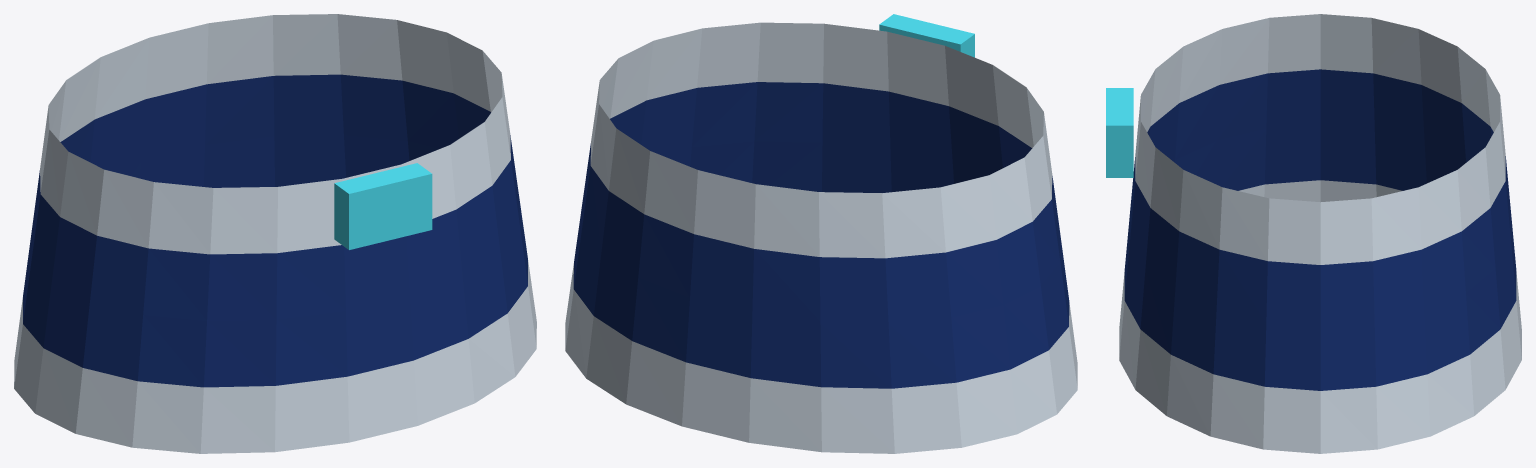
File: Skin_ValkyrieShorts.obj
3 views of the same model, side by side, from view 1: azimuth 30°, elevation 25°; view 2: azimuth 150°, elevation 25°; view 3: azimuth 270°, elevation 25° (orthographic). The views are drawn at different scales.
Parts seen in each view (by area): view 1: Skin_ValkyrieShorts_BaseArmor, Skin_ValkyrieShorts_TrimMetal, Skin_ValkyrieShorts_EmissiveCore; view 2: Skin_ValkyrieShorts_BaseArmor, Skin_ValkyrieShorts_TrimMetal, Skin_ValkyrieShorts_EmissiveCore; view 3: Skin_ValkyrieShorts_BaseArmor, Skin_ValkyrieShorts_TrimMetal, Skin_ValkyrieShorts_EmissiveCore.
Boxes of the visible parts, bbox=[...] form: Skin_ValkyrieShorts_BaseArmor: bbox=[23, 74, 527, 387]; Skin_ValkyrieShorts_TrimMetal: bbox=[14, 14, 536, 453]; Skin_ValkyrieShorts_EmissiveCore: bbox=[334, 163, 432, 249]; Skin_ValkyrieShorts_BaseArmor: bbox=[573, 82, 1069, 388]; Skin_ValkyrieShorts_TrimMetal: bbox=[565, 22, 1077, 453]; Skin_ValkyrieShorts_EmissiveCore: bbox=[879, 14, 974, 57]; Skin_ValkyrieShorts_BaseArmor: bbox=[1124, 69, 1516, 390]; Skin_ValkyrieShorts_TrimMetal: bbox=[1119, 14, 1521, 453]; Skin_ValkyrieShorts_EmissiveCore: bbox=[1106, 88, 1133, 177].
Bounding box in the file's own units: 0.376 × 0.191 × 0.3025.
